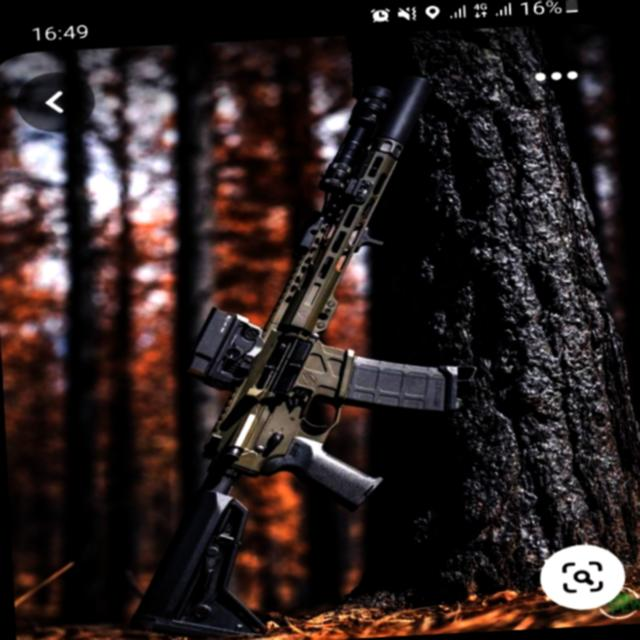m16: (68, 242, 486, 620)
